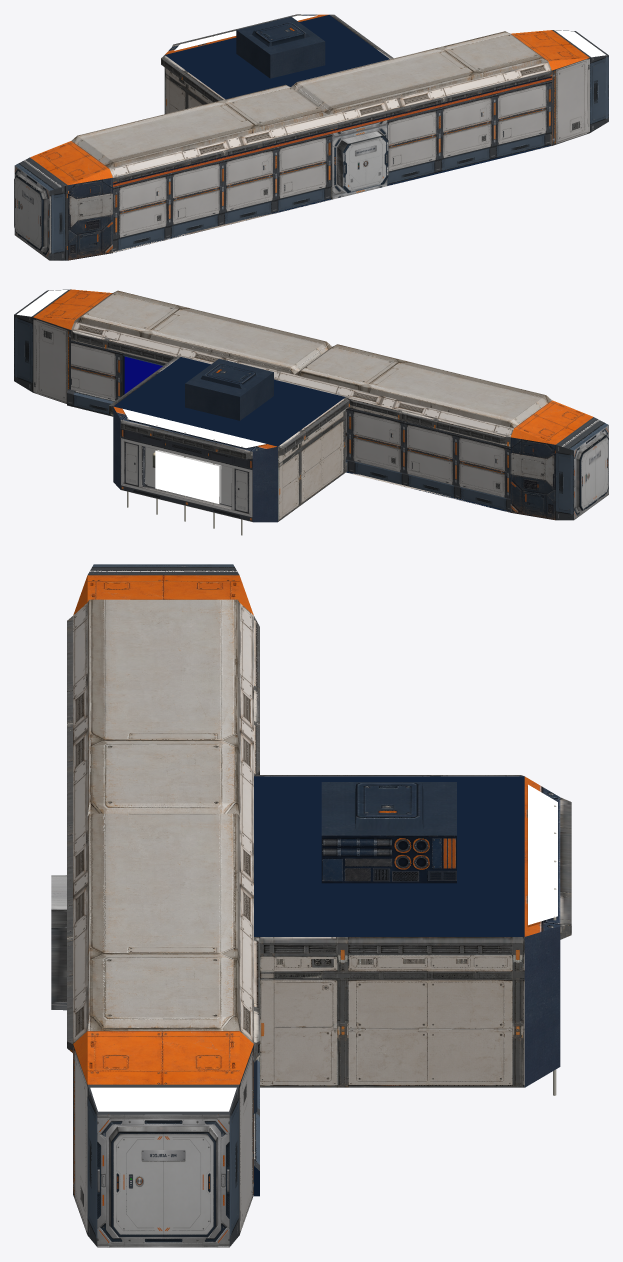
Rendered from AirLock.glb.
The picture shows the model from 3 angles, top to bottom: view 1: azimuth 30°, elevation 25°; view 2: azimuth 150°, elevation 25°; view 3: azimuth 270°, elevation 25°; orthographic projection. The views are drawn at different scales.
Parts seen in each view (by area): view 1: AirLock_Building, Light09, Light04; view 2: AirLock_Building, Light03, Light04, Airlock_Control_Console, Light09; view 3: AirLock_Building, Light04, Light09.
Boxes of the visible parts, x1,y1,x2,y2 form: AirLock_Building: (14, 14, 608, 260); Light09: (555, 30, 606, 57); Light04: (174, 15, 317, 50); AirLock_Building: (14, 289, 608, 522); Light03: (155, 451, 219, 503); Light04: (123, 409, 265, 447); Airlock_Control_Console: (124, 356, 162, 393); Light09: (17, 290, 67, 316); AirLock_Building: (51, 564, 571, 1247); Light04: (528, 784, 557, 925); Light09: (90, 1087, 236, 1111).
Size of what is drawn, in the model's own units: 21.74 by 4.3 by 8.64.
19 materials, 14 textured.
